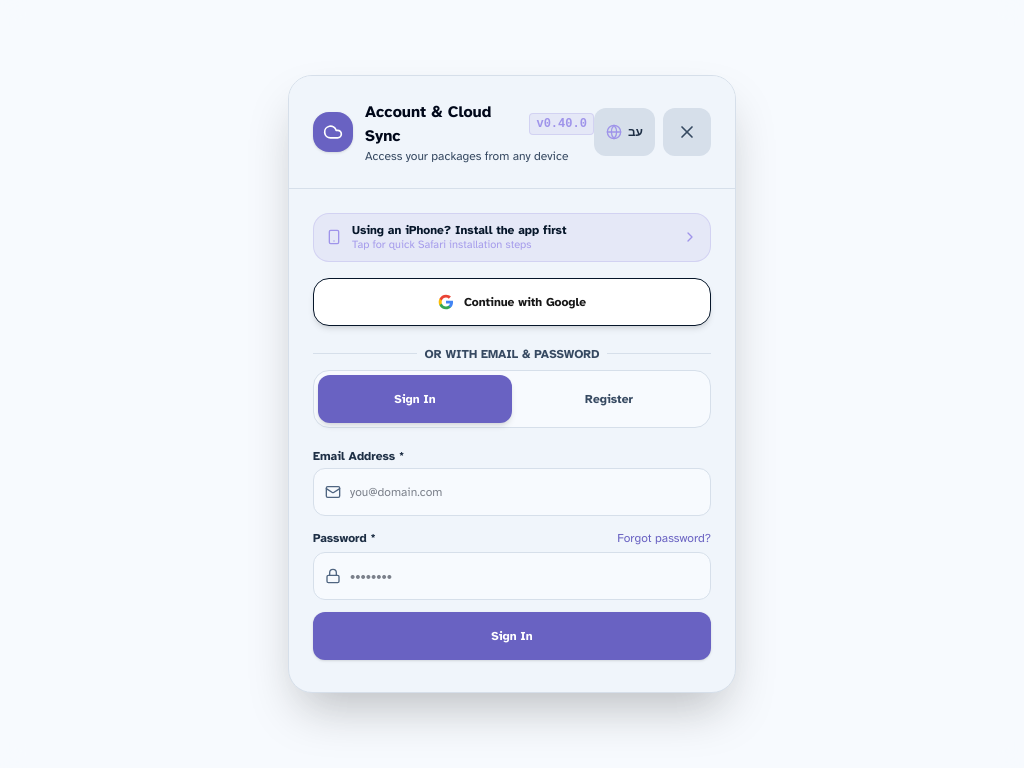
Scenario: AuthModal (rendered) › surfaces the thrown error message when sign-in fails, without closing
Step 1. Type "test@example.com" into the field with placeholder "you@domain.com" → (512, 492), box [313,468,711,516]
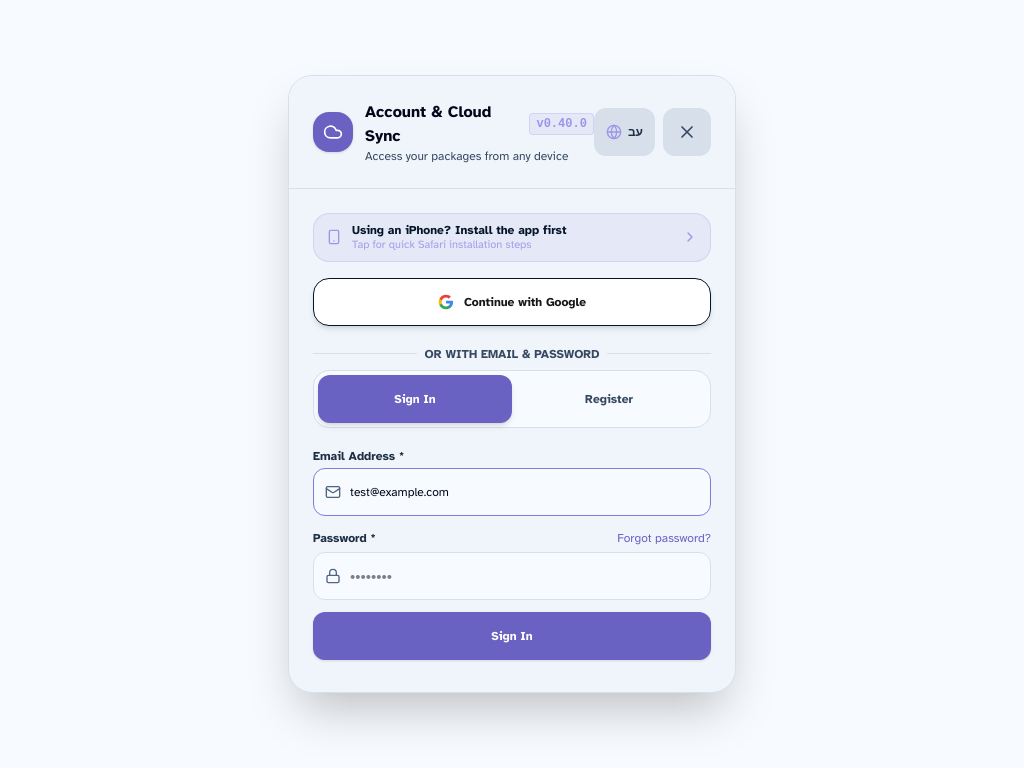
Step 2. Type "correcthorse1!" into the password field with placeholder "••••••••" → (512, 576), box [313,552,711,600]
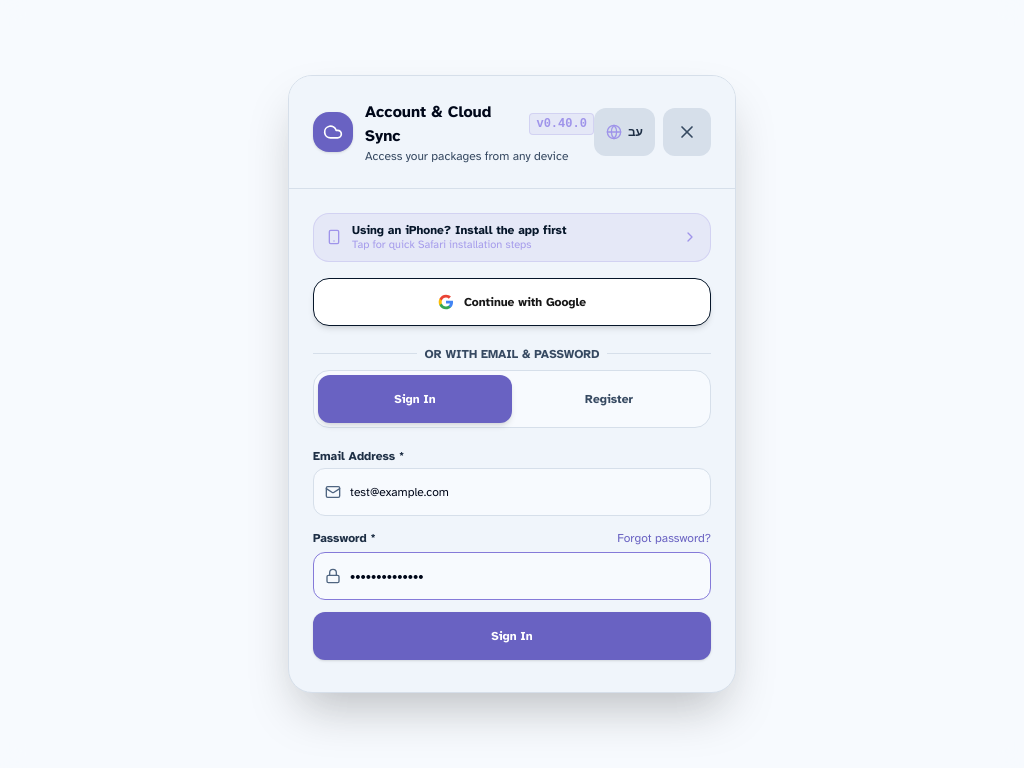
Step 3. Click the button "Sign In" below "Email Address" → (512, 636), box [313,612,711,660]
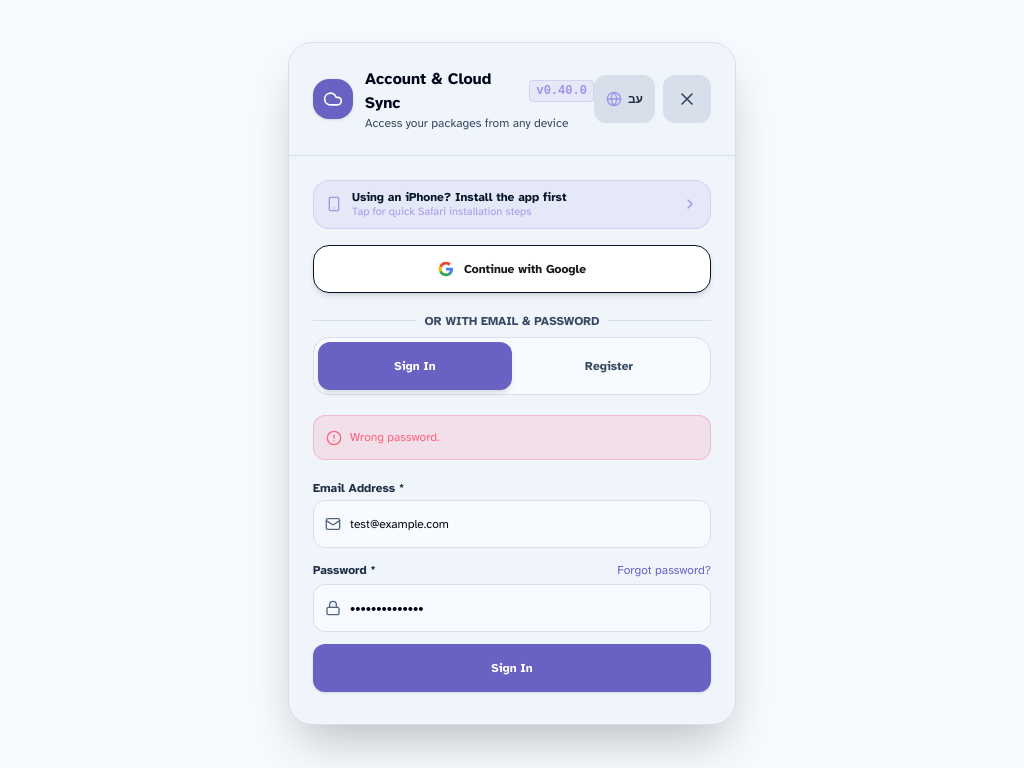
Check: the text "Wrong password." is shown, box [350,428,439,448]
